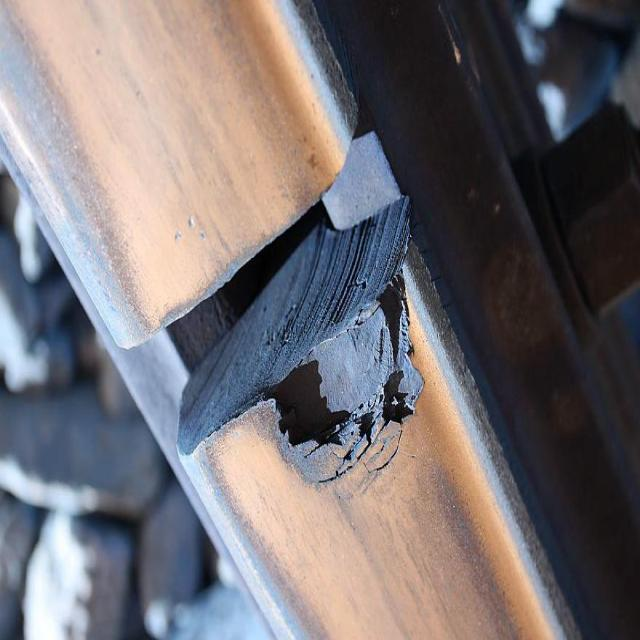head_checks_high: (268, 278, 438, 486)
railway_join_bar_defects_medium: (105, 130, 448, 450)
